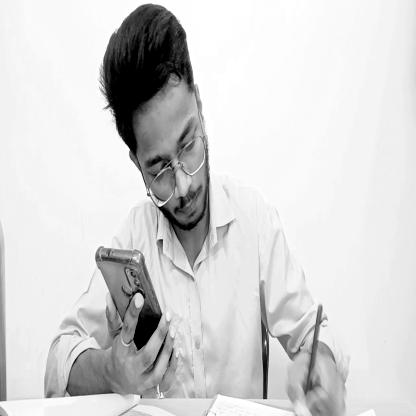Distracted: (103, 11, 213, 236)
